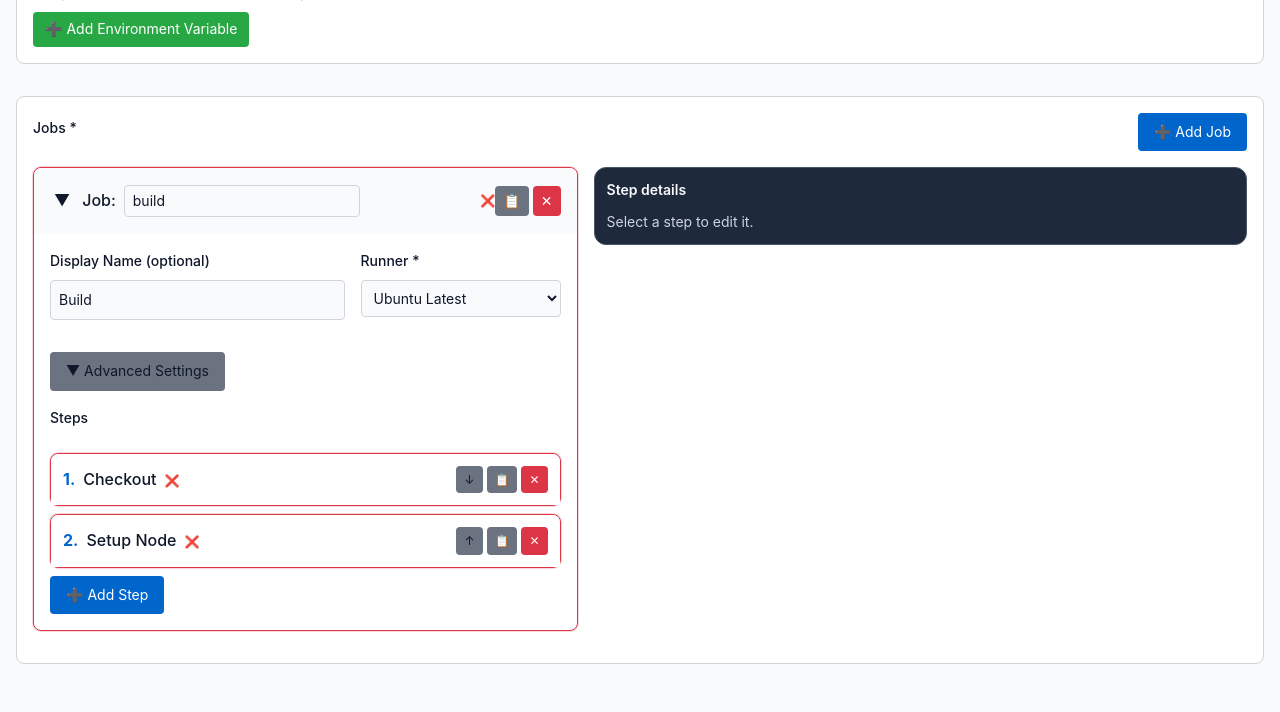
Test: GUIWorkflowEditor step detail panel › swaps the panel content when a different step is selected
This screenshot has width=1280, height=712.
(page scrolled)
Click the button "1. Checkout": [110, 480] box [63,467,157,493]
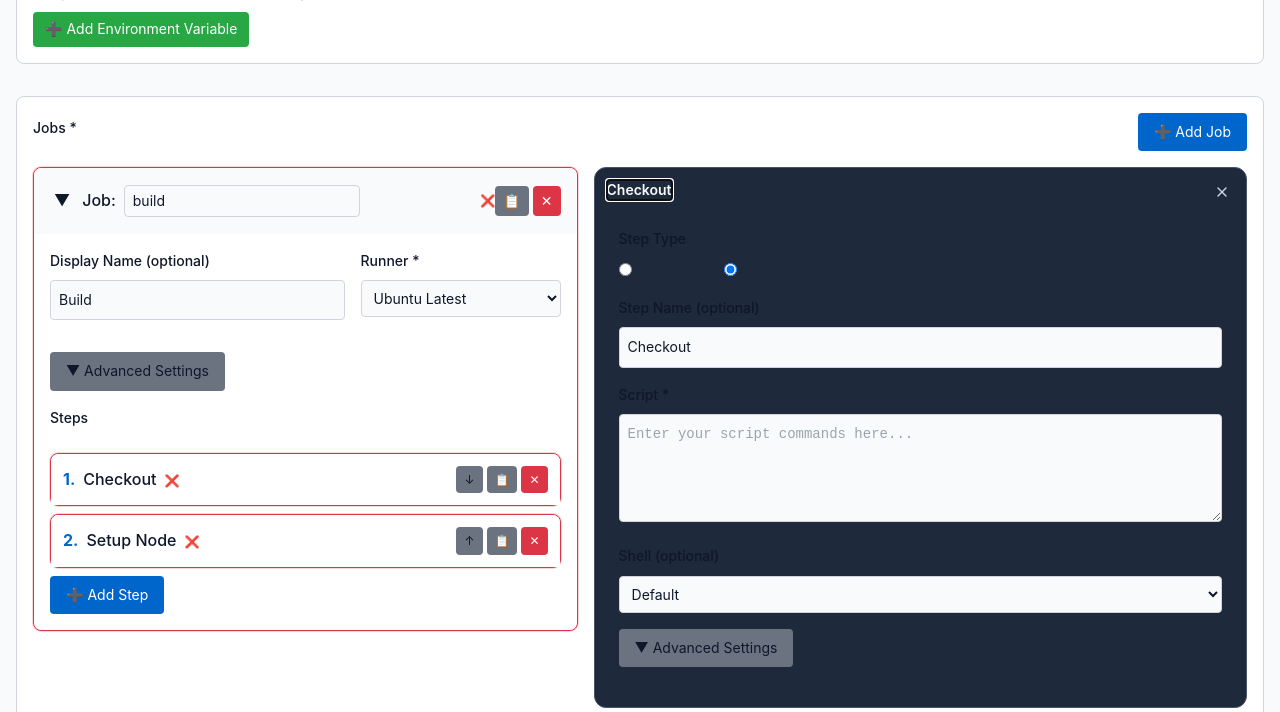
Click the button "2. Setup Node": [120, 541] box [63,528,176,554]
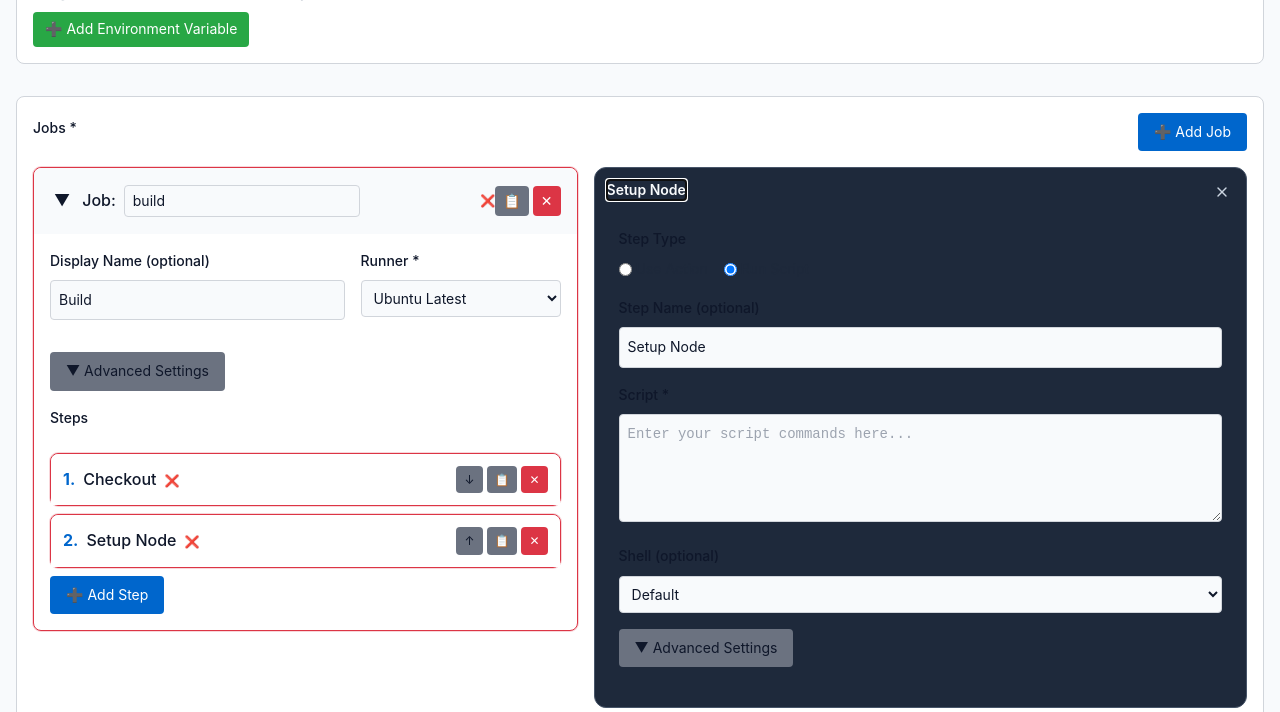
Now the number of fields labelled "Step Name (optional)" is 1, box [618,327,1222,368]
Now the field labelled "Step Name (optional)" holds "Setup Node", box [618,327,1222,368]
